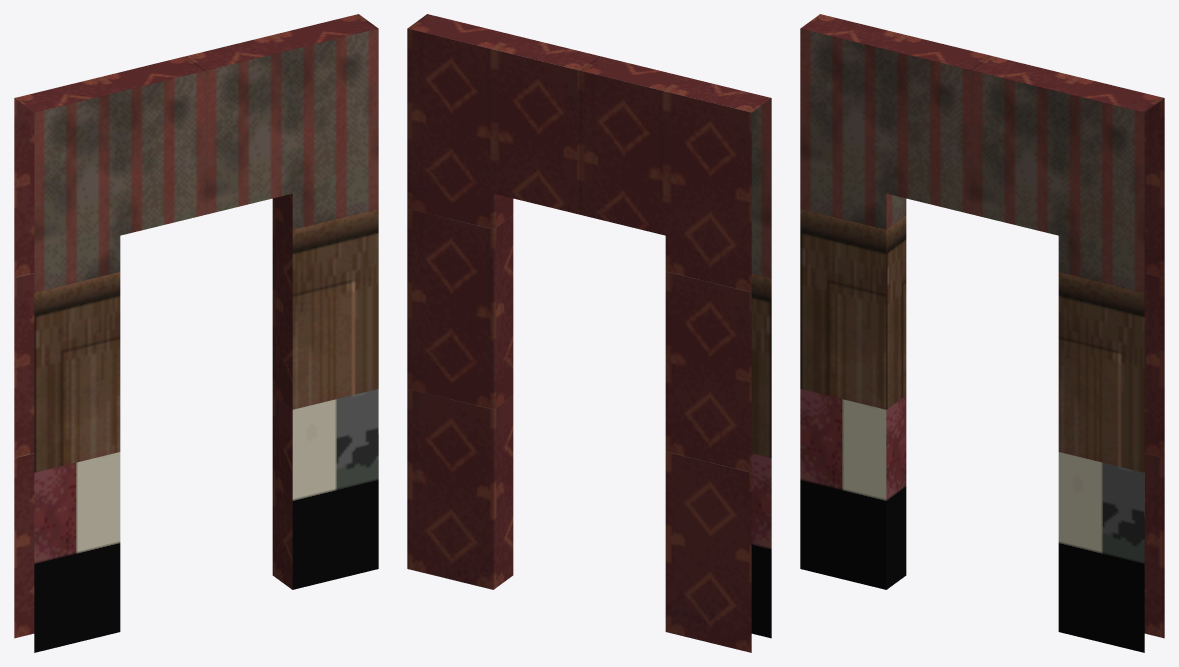
The model's file is SM_wall_doorway_service.fbx.
The picture shows the model from 3 angles, left to right: view 1: azimuth 30°, elevation 25°; view 2: azimuth 150°, elevation 25°; view 3: azimuth 330°, elevation 25°; orthographic projection.
Visible parts, largest first — view 1: wall_doorway_service; view 2: wall_doorway_service; view 3: wall_doorway_service.
Part boxes in pixels (left/top/right/bottom): wall_doorway_service: left=14, top=14, right=378, bottom=652; wall_doorway_service: left=407, top=14, right=771, bottom=652; wall_doorway_service: left=800, top=14, right=1164, bottom=652.
Size of the model in its own units: 2 by 3 by 0.2.
